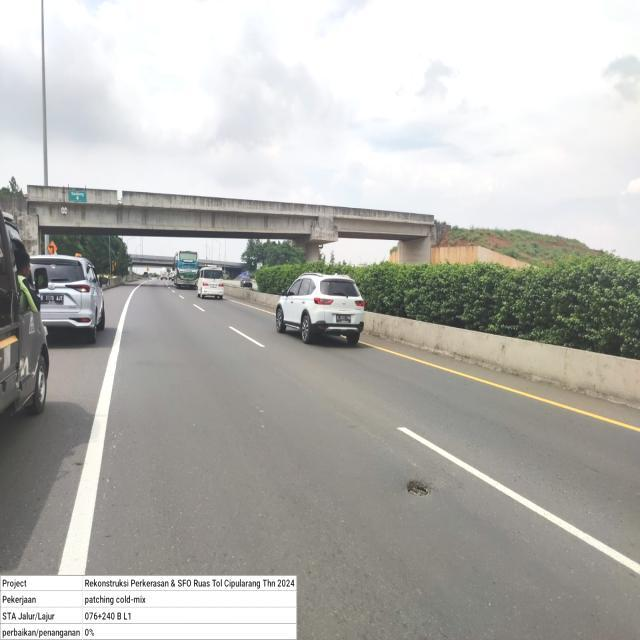Buraco: (404, 478, 434, 498)
